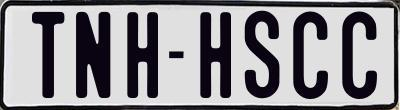C: (342, 10, 383, 103), (292, 11, 327, 105)
H: (127, 11, 163, 103), (197, 12, 229, 101)
N: (75, 12, 109, 103)
S: (242, 11, 281, 104)
T: (31, 12, 65, 104)
